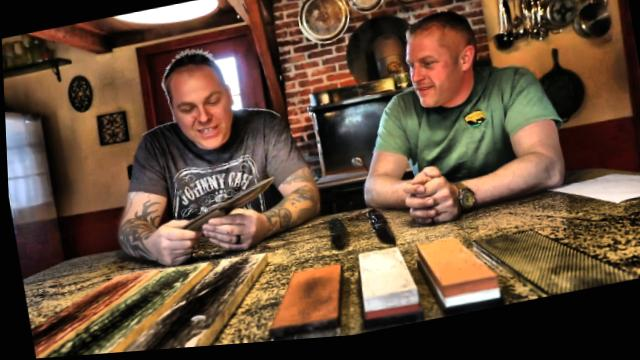knife: (150, 170, 291, 256)
